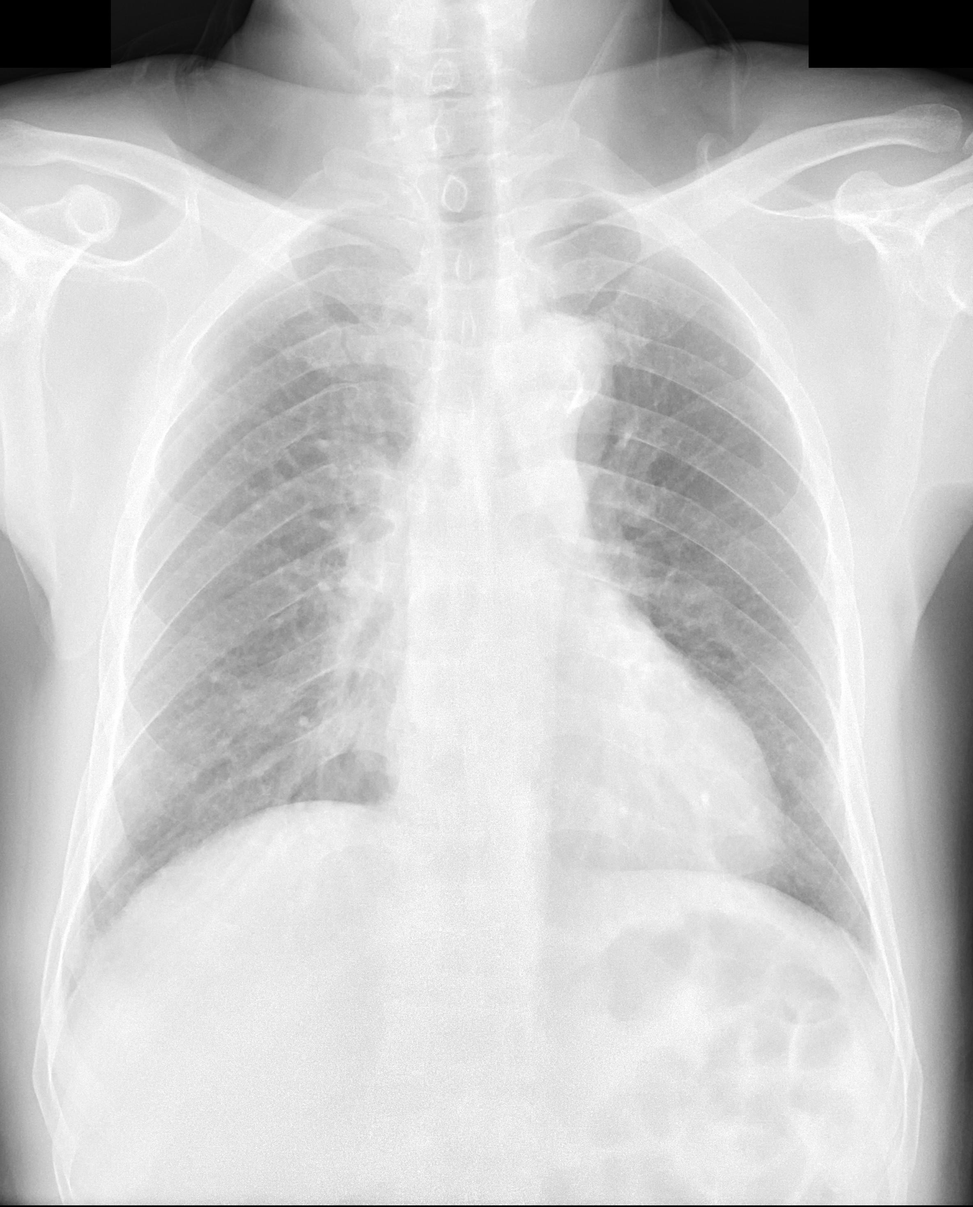Aortic enlargement: (479, 311, 618, 452)
Cardiomegaly: (388, 710, 793, 884)
